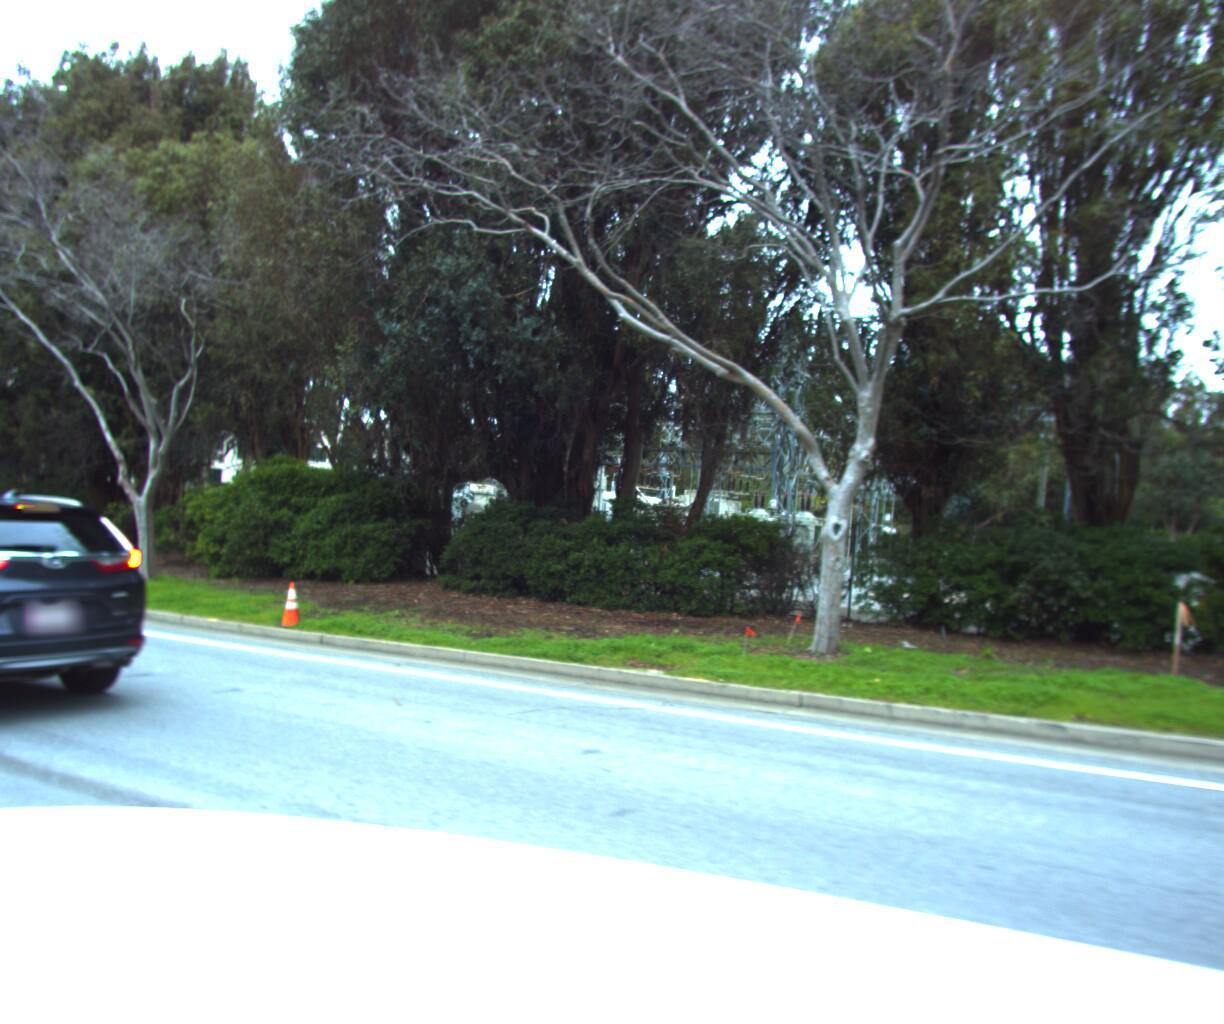car: (0, 467, 177, 772)
